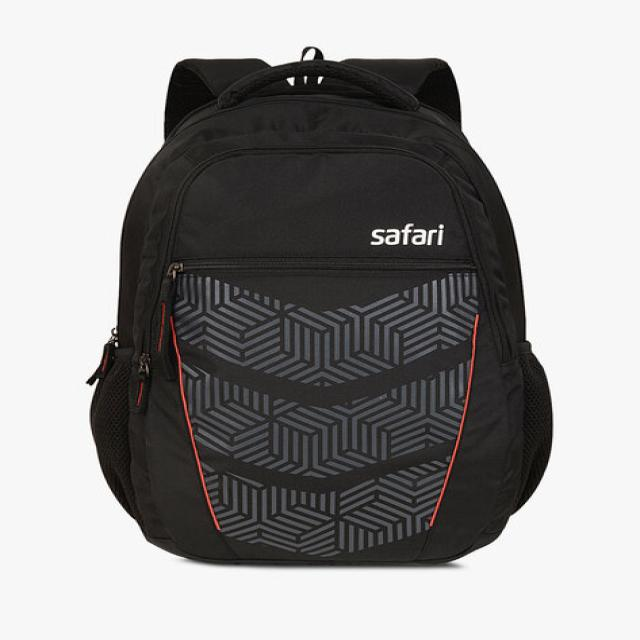backpack: (86, 47, 554, 566)
